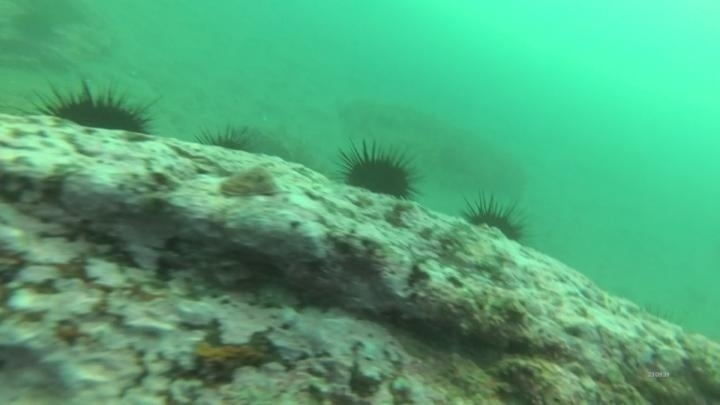echinus: (31, 77, 159, 139), (335, 138, 423, 203), (459, 192, 533, 249), (192, 121, 256, 158)
